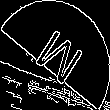M_SW: (26, 21, 84, 89)
